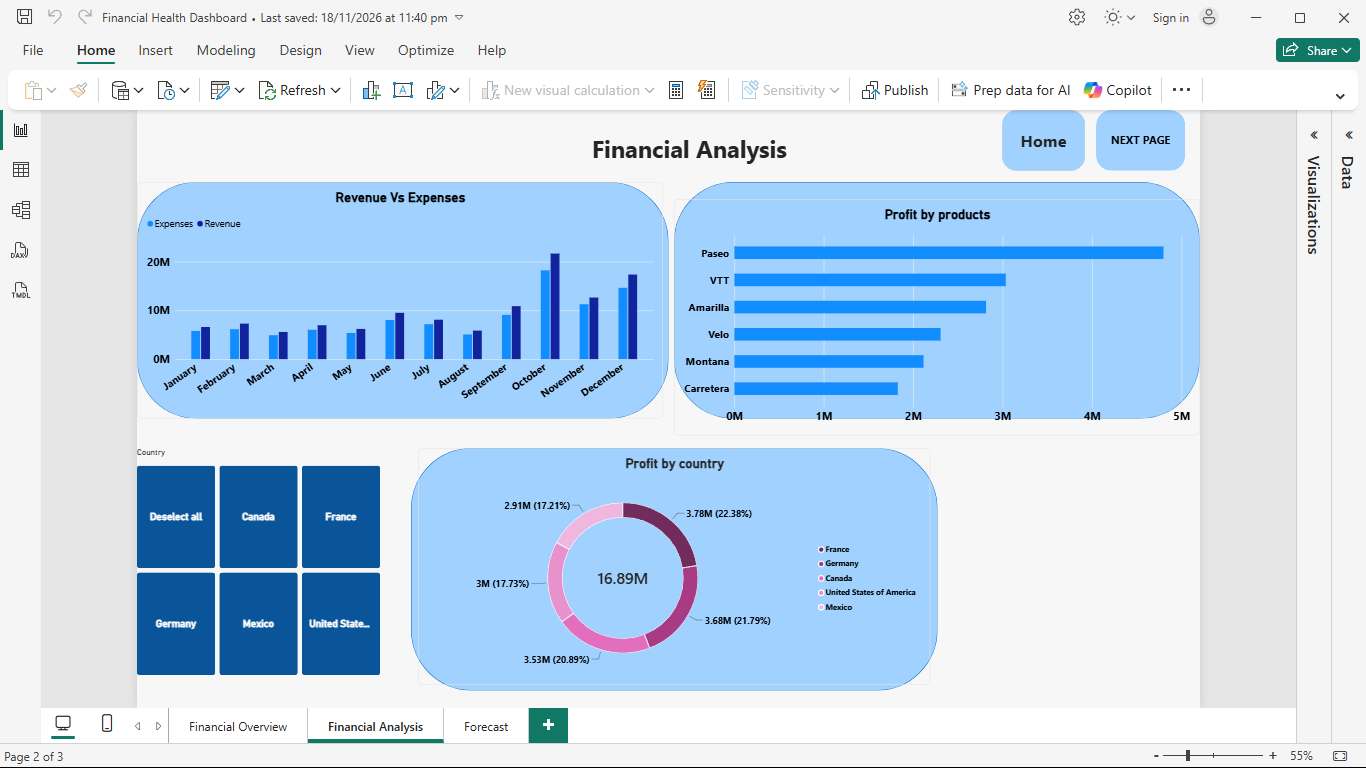

The page's visual inventory and layout, read from the dashboard file:
{"tool":"powerbi","page":{"name":"Financial Analysis","canvas":[1920,1080],"ordinal":1},"visuals":[{"type":"shape","box":[0,130.7,960,427.4],"z":0,"group":"g1"},{"type":"group","id":"g1","title":"Group 1","box":[0,130.7,1920,918.4],"z":0},{"type":"clusteredColumnChart","title":" Revenue Vs Expenses","fields":{"Category":["financials (2).Date.Variation.Date Hierarchy.Year","financials (2).Date.Variation.Date Hierarchy.Quarter","financials (2).Date.Variation.Date Hierarchy.Month","financials (2).Date.Variation.Date Hierarchy.Day"],"Y":["Sum(financials (2).COGS)","Sum(financials (2). Sales)"]},"box":[0,130.7,949.7,427.4],"z":1000},{"type":"shape","box":[970.3,130.7,949.7,427.4],"z":1000,"group":"g1"},{"type":"clusteredBarChart","title":"Profit by products","fields":{"Category":["financials (2).Product"],"Y":["Sum(financials (2).Profit)"]},"box":[970.3,161,949.7,427.4],"z":2000},{"type":"shape","box":[494.7,610.7,951,438.3],"z":2000,"group":"g1"},{"type":"donutChart","title":"Profit by country","fields":{"Category":["financials (2).Country"],"Y":["Sum(financials (2).Profit)"]},"box":[507.6,610.1,925.4,428.1],"z":3000},{"type":"textbox","box":[604.9,41.3,784.5,68.1],"z":4000},{"type":"advancedSlicerVisual","fields":{"Values":["financials (2).Country"]},"box":[0,610.1,440.9,410.1],"z":5000},{"type":"actionButton","box":[1562.1,0,150.2,110],"z":6000},{"type":"actionButton","box":[1731.7,0,161.4,109.7],"z":6001}]}

Visuals, with their boxes on the page's 1920x1080 design canvas (x1, y1, x2, y2). These are canvas units, not pixel positions in the 1366x768 screenshot, which may show the page scaled, cropped or inside an application window:
shape: bbox(0, 131, 960, 558)
"Group 1" group: bbox(0, 131, 1920, 1049)
" Revenue Vs Expenses" clusteredColumnChart: bbox(0, 131, 950, 558)
shape: bbox(970, 131, 1920, 558)
"Profit by products" clusteredBarChart: bbox(970, 161, 1920, 588)
shape: bbox(495, 611, 1446, 1049)
"Profit by country" donutChart: bbox(508, 610, 1433, 1038)
textbox: bbox(605, 41, 1389, 109)
advancedSlicerVisual - financials (2).Country: bbox(0, 610, 441, 1020)
actionButton: bbox(1562, 0, 1712, 110)
actionButton: bbox(1732, 0, 1893, 110)
